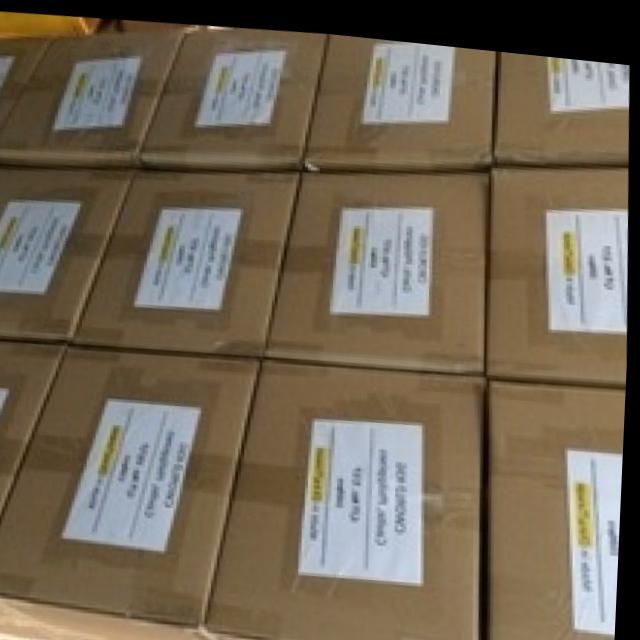box: (213, 350, 489, 640), (0, 341, 265, 640), (265, 162, 492, 363), (67, 165, 303, 353), (487, 369, 629, 640), (492, 154, 629, 370), (134, 25, 326, 168), (303, 29, 495, 168), (0, 25, 181, 166), (0, 165, 137, 341), (489, 40, 629, 162), (0, 338, 67, 540), (0, 34, 56, 143)
